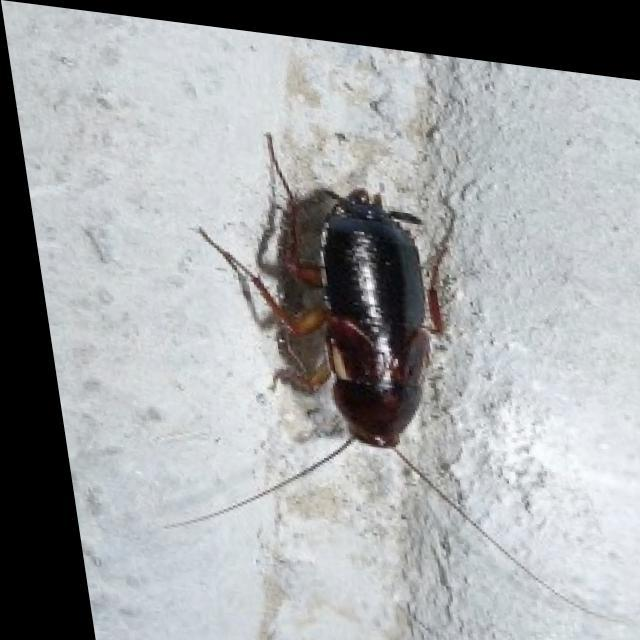cockroach: (314, 190, 436, 449)
